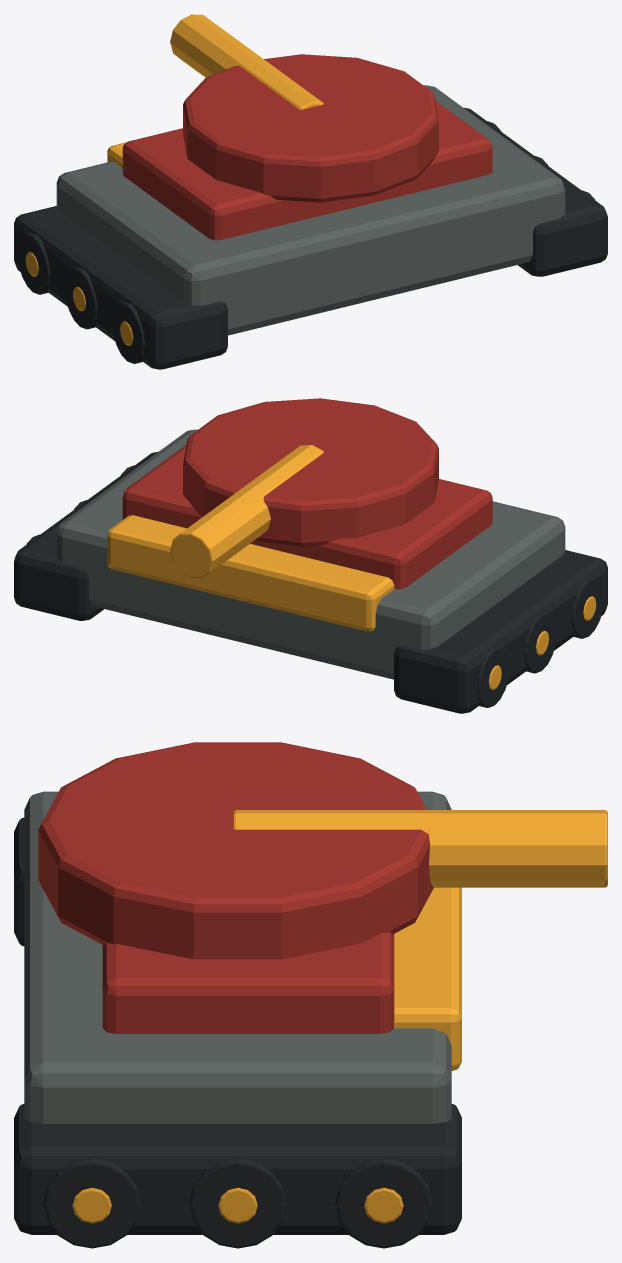
The model's file is SM_Soviet_SU_GranitMBT.fbx.
3 renders of one model, top to bottom at view 1: azimuth 30°, elevation 25°; view 2: azimuth 150°, elevation 25°; view 3: azimuth 270°, elevation 25°, orthographic. The views are drawn at different scales.
Parts seen in each view (by area): view 1: SM_Soviet_SU_GranitMBT, SM_Soviet_SU_GranitMBT_Turret, SM_Soviet_SU_GranitMBT_UpperHull, SM_Soviet_SU_GranitMBT_Track_-1, SM_Soviet_SU_GranitMBT_Track_+1, SM_Soviet_SU_GranitMBT_Barrel, SM_Soviet_SU_GranitMBT_Wheel_00.001, SM_Soviet_SU_GranitMBT_Wheel_01, SM_Soviet_SU_GranitMBT_Wheel_00; view 2: SM_Soviet_SU_GranitMBT, SM_Soviet_SU_GranitMBT_Turret, SM_Soviet_SU_GranitMBT_Glacis, SM_Soviet_SU_GranitMBT_UpperHull, SM_Soviet_SU_GranitMBT_Track_-1, SM_Soviet_SU_GranitMBT_Barrel, SM_Soviet_SU_GranitMBT_Track_+1, SM_Soviet_SU_GranitMBT_Wheel_00.001, SM_Soviet_SU_GranitMBT_Wheel_00, SM_Soviet_SU_GranitMBT_Wheel_01; view 3: SM_Soviet_SU_GranitMBT_Turret, SM_Soviet_SU_GranitMBT, SM_Soviet_SU_GranitMBT_Track_+1, SM_Soviet_SU_GranitMBT_UpperHull, SM_Soviet_SU_GranitMBT_Barrel, SM_Soviet_SU_GranitMBT_Glacis, SM_Soviet_SU_GranitMBT_Wheel_04, SM_Soviet_SU_GranitMBT_Wheel_04.001, SM_Soviet_SU_GranitMBT_Wheel_05, SM_Soviet_SU_GranitMBT_Track_-1, SM_Soviet_SU_GranitMBT_Hub_04.001, SM_Soviet_SU_GranitMBT_Hub_05 (+1 smaller).
Boxes of the visible parts, x1,y1,x2,y2 form: SM_Soviet_SU_GranitMBT: (56,85,565,335); SM_Soviet_SU_GranitMBT_Turret: (183,54,438,202); SM_Soviet_SU_GranitMBT_UpperHull: (122,100,492,240); SM_Soviet_SU_GranitMBT_Track_-1: (14,206,227,369); SM_Soviet_SU_GranitMBT_Track_+1: (464,107,607,276); SM_Soviet_SU_GranitMBT_Barrel: (170,14,323,109); SM_Soviet_SU_GranitMBT_Wheel_00.001: (64,267,97,329); SM_Soviet_SU_GranitMBT_Wheel_01: (17,232,50,294); SM_Soviet_SU_GranitMBT_Wheel_00: (112,302,144,363); SM_Soviet_SU_GranitMBT: (56,429,565,679); SM_Soviet_SU_GranitMBT_Turret: (183,398,438,546); SM_Soviet_SU_GranitMBT_Glacis: (107,515,394,631); SM_Soviet_SU_GranitMBT_UpperHull: (122,445,492,589); SM_Soviet_SU_GranitMBT_Track_-1: (394,550,607,713); SM_Soviet_SU_GranitMBT_Barrel: (170,445,323,578); SM_Soviet_SU_GranitMBT_Track_+1: (14,451,158,620); SM_Soviet_SU_GranitMBT_Wheel_00.001: (524,611,557,673); SM_Soviet_SU_GranitMBT_Wheel_00: (571,577,604,638); SM_Soviet_SU_GranitMBT_Wheel_01: (477,646,509,707); SM_Soviet_SU_GranitMBT_Turret: (38,742,433,959); SM_Soviet_SU_GranitMBT: (24,791,451,1123); SM_Soviet_SU_GranitMBT_Track_+1: (14,1104,461,1234); SM_Soviet_SU_GranitMBT_UpperHull: (102,932,394,1033); SM_Soviet_SU_GranitMBT_Barrel: (233,810,607,887); SM_Soviet_SU_GranitMBT_Glacis: (394,887,461,1070); SM_Soviet_SU_GranitMBT_Wheel_04: (43,1158,140,1248); SM_Soviet_SU_GranitMBT_Wheel_04.001: (189,1158,286,1248); SM_Soviet_SU_GranitMBT_Wheel_05: (335,1158,432,1248); SM_Soviet_SU_GranitMBT_Track_-1: (14,817,24,946); SM_Soviet_SU_GranitMBT_Hub_04.001: (218,1188,257,1223); SM_Soviet_SU_GranitMBT_Hub_05: (364,1188,403,1223).
Size of what is drawn, in the model's own units: 525 by 376 by 183.
